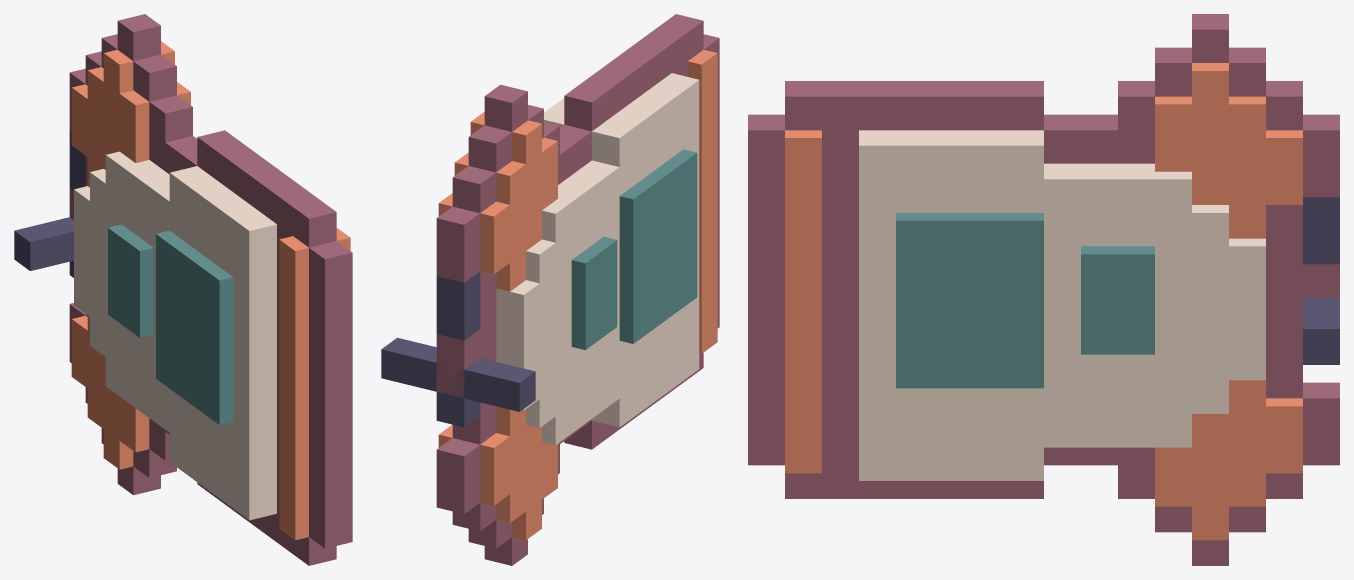
The model's file is SlowShip.fbx.
3 renders of one model, left to right at view 1: azimuth 30°, elevation 25°; view 2: azimuth 150°, elevation 25°; view 3: azimuth 270°, elevation 25°, orthographic. The views are drawn at different scales.
Parts seen in each view (by area): view 1: Cube.001, Cube.126; view 2: Cube.001, Cube.126; view 3: Cube.126, Cube.001.
Boxes of the visible parts, box(x1,y1,x2,y2) form: Cube.001: box(69, 14, 352, 518); Cube.126: box(14, 82, 352, 565); Cube.001: box(436, 14, 719, 493); Cube.126: box(381, 61, 719, 565); Cube.126: box(748, 104, 1339, 565); Cube.001: box(748, 14, 1339, 506).
Bounding box in the file's own units: 1000 × 3200 × 3200.
